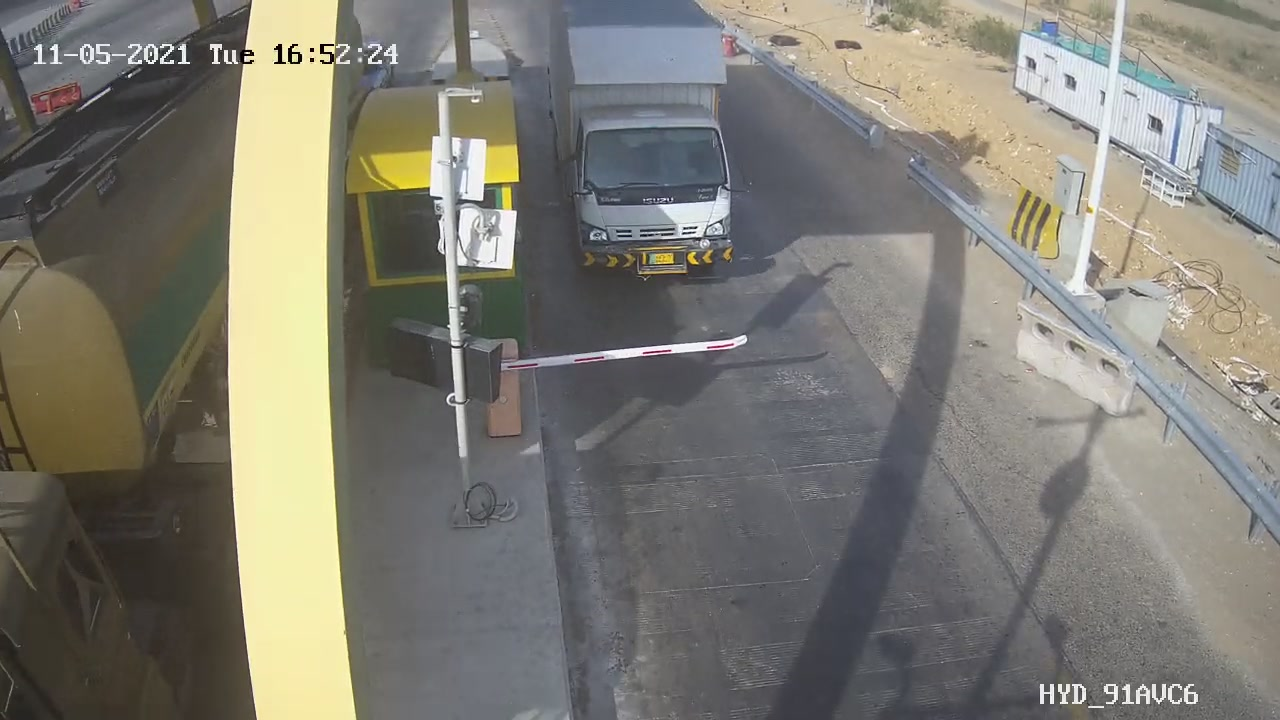F5: (530, 3, 769, 307)
